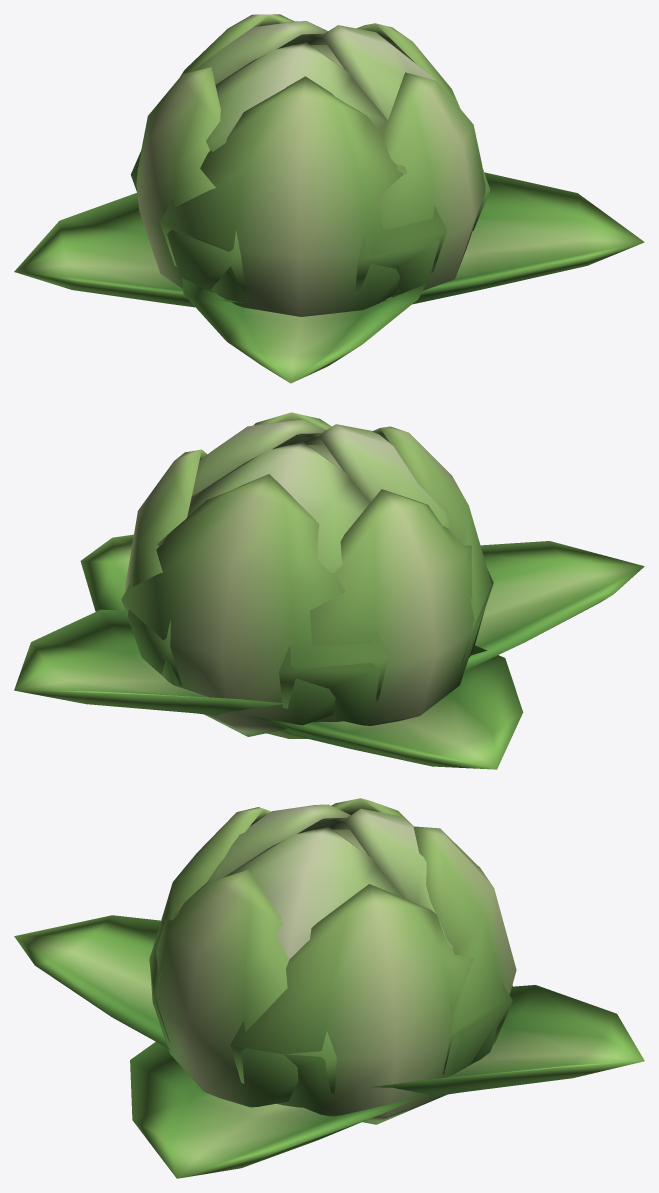
File: prop-crop-cabbage-ripe.glb
3 views of the same model, one above another, from view 1: azimuth 30°, elevation 25°; view 2: azimuth 150°, elevation 25°; view 3: azimuth 270°, elevation 25° (orthographic). The views are drawn at different scales.
Parts seen in each view (by area): view 1: body, leaf; view 2: body, leaf; view 3: body, leaf.
Part boxes in pixels (x1,y1,x2,y2): body: (130,14,489,316); leaf: (14,172,644,383); body: (121,412,493,738); leaf: (14,534,644,769); body: (149,798,516,1124); leaf: (14,915,644,1178).
Bounding box in the file's own units: 0.7162 × 0.3809 × 0.7487.
